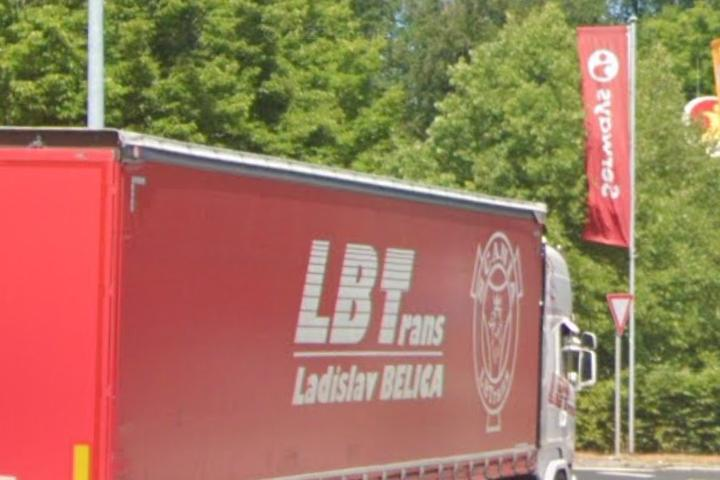traffic_sign: (606, 293, 635, 337)
vehicle: (1, 126, 600, 480)
